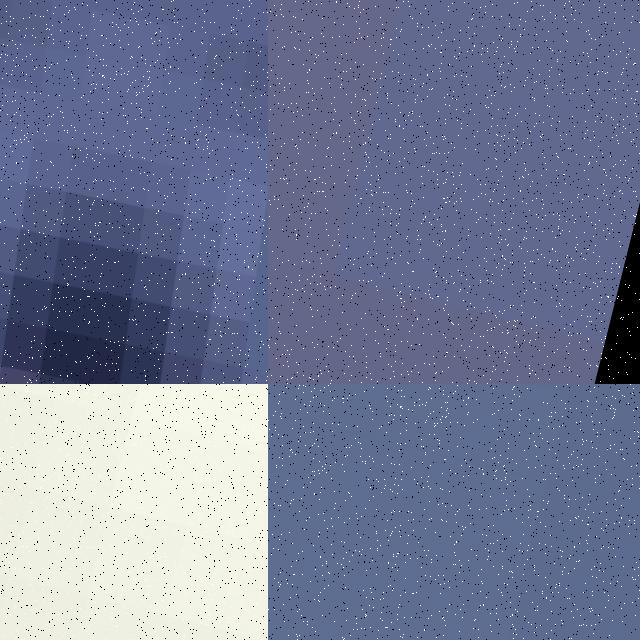drone: (0, 0, 268, 384)
